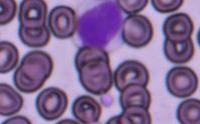L: (76, 0, 124, 51)
